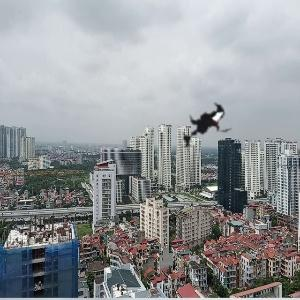drone: (164, 87, 251, 174)
